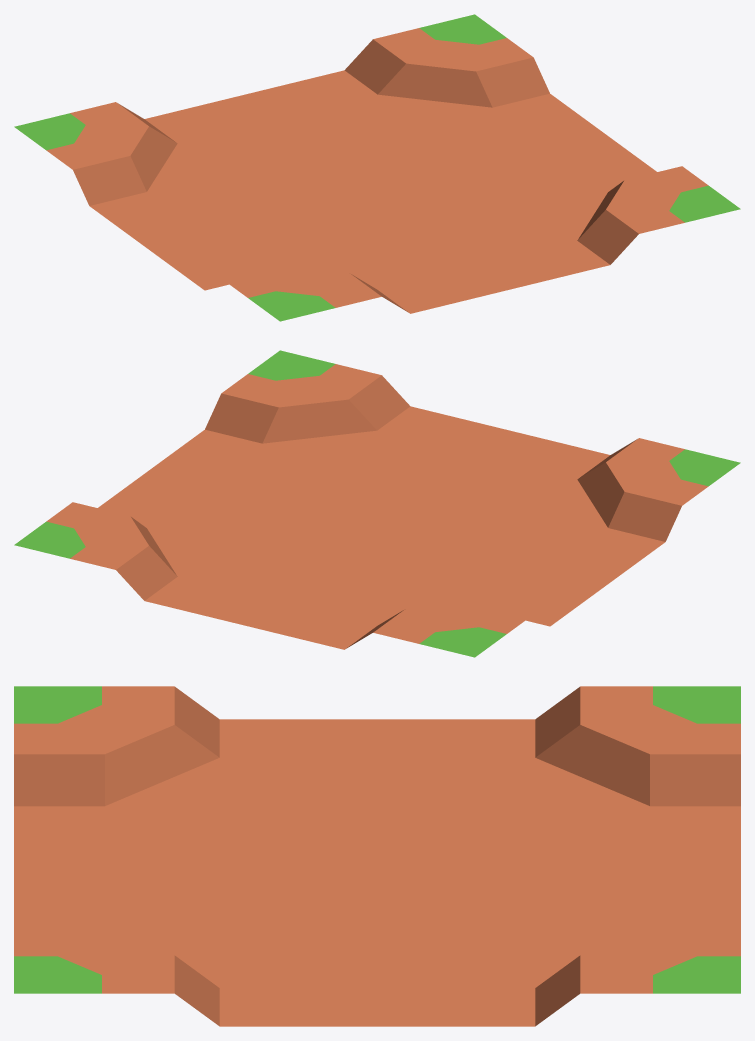
File: ground_pathCross.glb
3 renders of one model, top to bottom at view 1: azimuth 30°, elevation 25°; view 2: azimuth 150°, elevation 25°; view 3: azimuth 270°, elevation 25°, orthographic. The views are drawn at different scales.
Parts seen in each view (by area): view 1: ground_pathCross; view 2: ground_pathCross; view 3: ground_pathCross.
Part boxes in pixels (x1,y1,x2,y2): ground_pathCross: (14, 14, 740, 321); ground_pathCross: (14, 350, 740, 657); ground_pathCross: (14, 686, 740, 1026).
Size of the model in its own units: 1 by 0.05 by 1.
